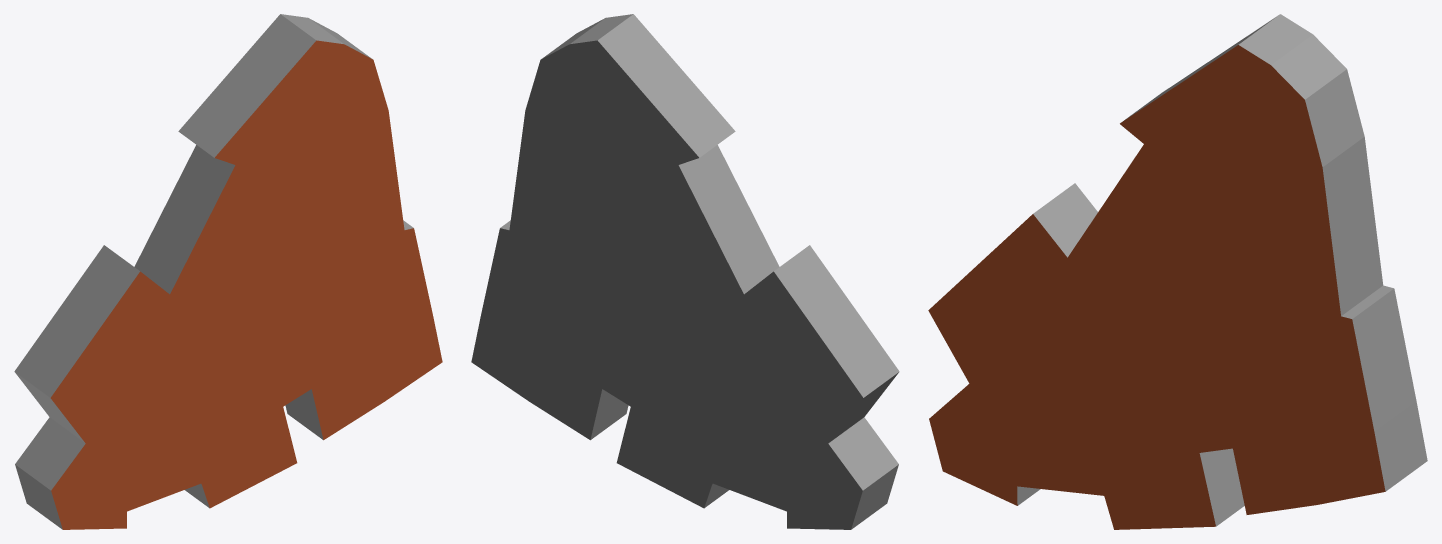
Rendered from construction_7039_assumed_A_Casa_h6m.obj.
The picture shows the model from 3 angles, left to right: view 1: azimuth 30°, elevation 25°; view 2: azimuth 150°, elevation 25°; view 3: azimuth 330°, elevation 25°; orthographic projection. The views are drawn at different scales.
Parts seen in each view (by area): view 1: construction_7039_assumed_A_Casa; view 2: construction_7039_assumed_A_Casa; view 3: construction_7039_assumed_A_Casa.
Boxes of the visible parts, box(x1,y1,x2,y2) form: construction_7039_assumed_A_Casa: box(14, 14, 442, 529); construction_7039_assumed_A_Casa: box(471, 14, 899, 529); construction_7039_assumed_A_Casa: box(928, 14, 1427, 529).
Size of the model in its own units: 37.59 by 40.49 by 6.
